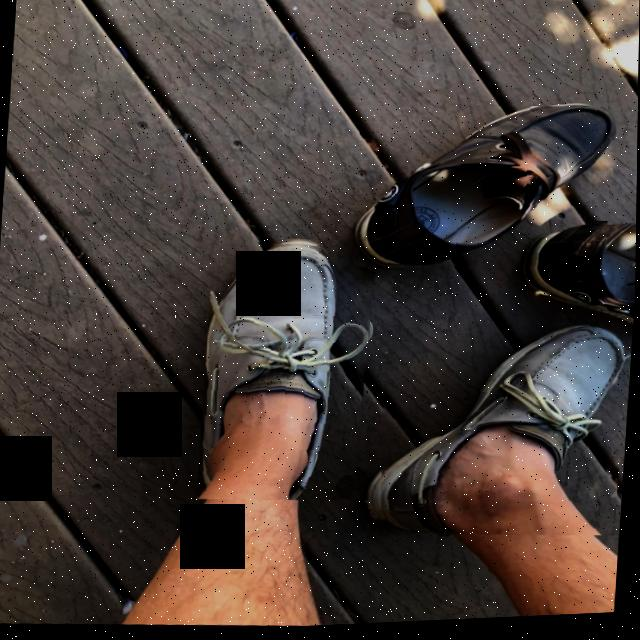shoe: (381, 331, 627, 539), (201, 246, 371, 503), (356, 112, 615, 271)
